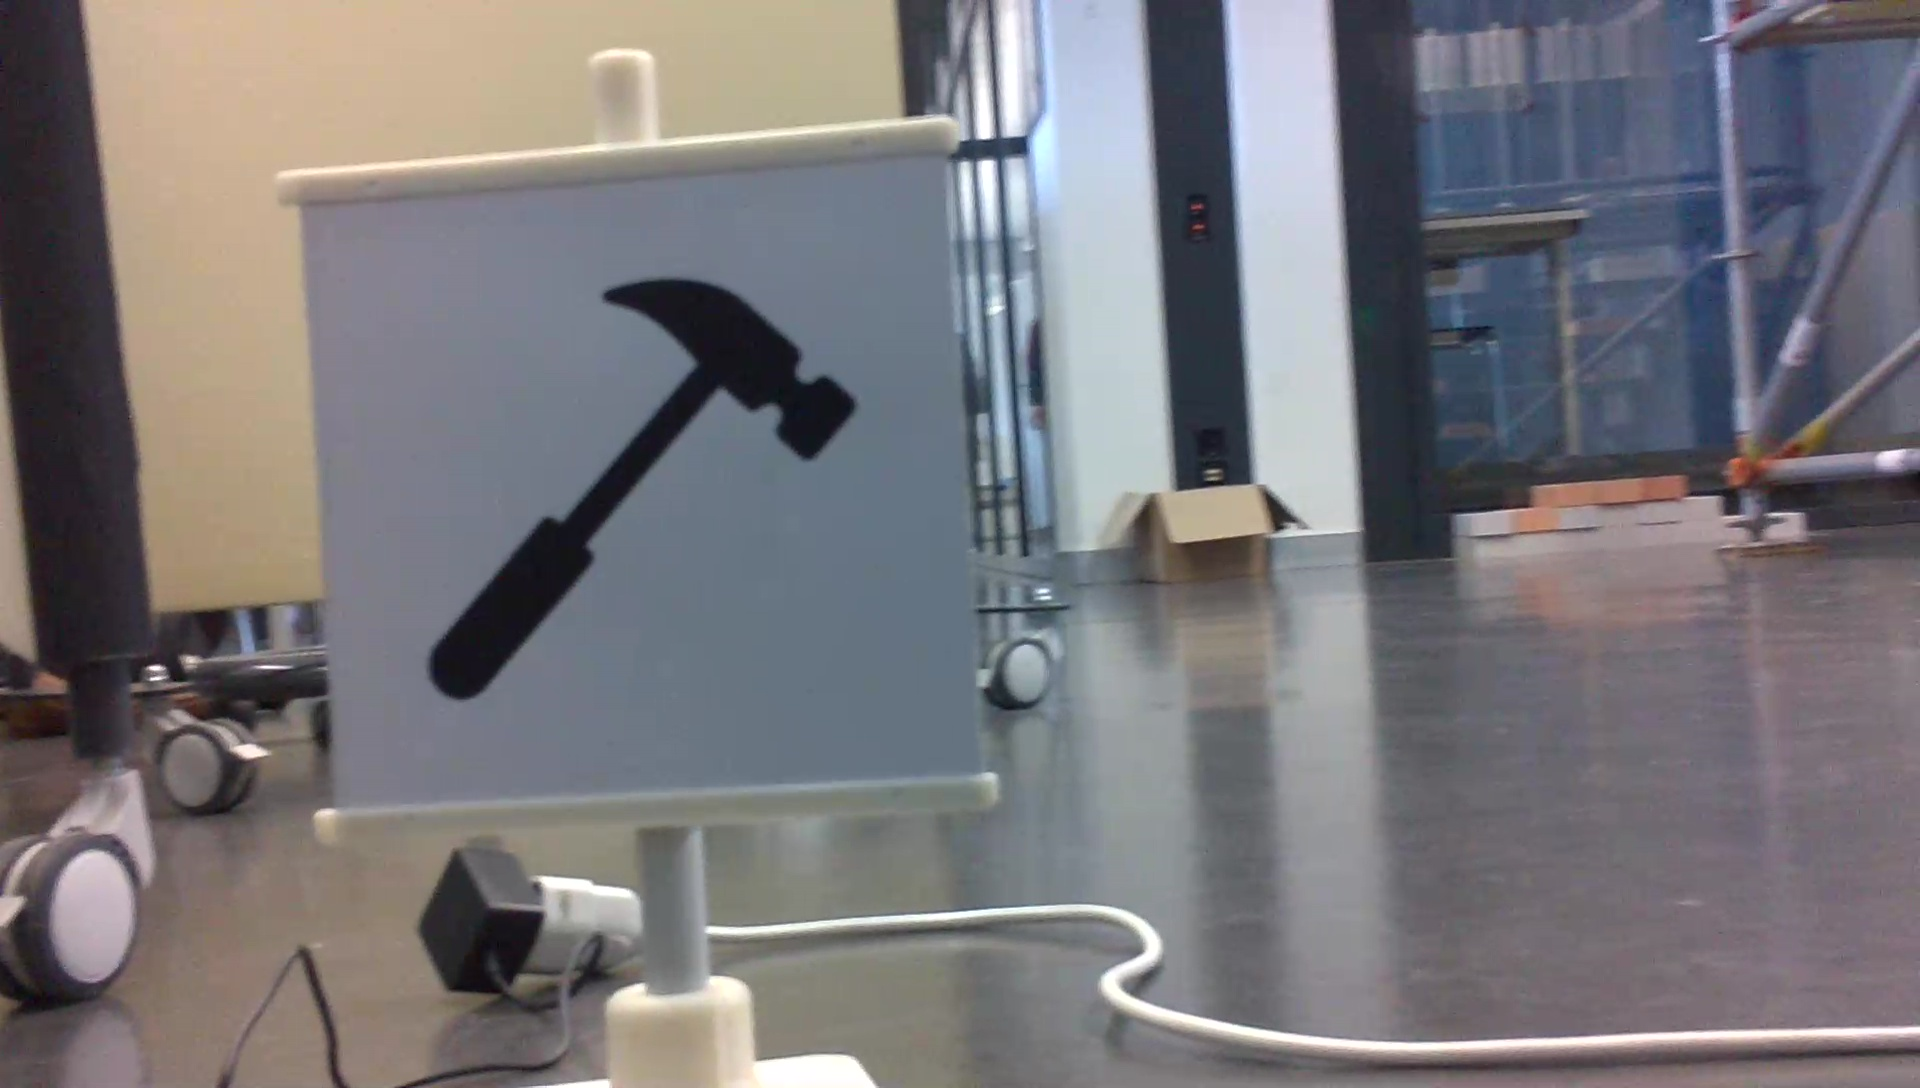hammer: (419, 268, 865, 708)
